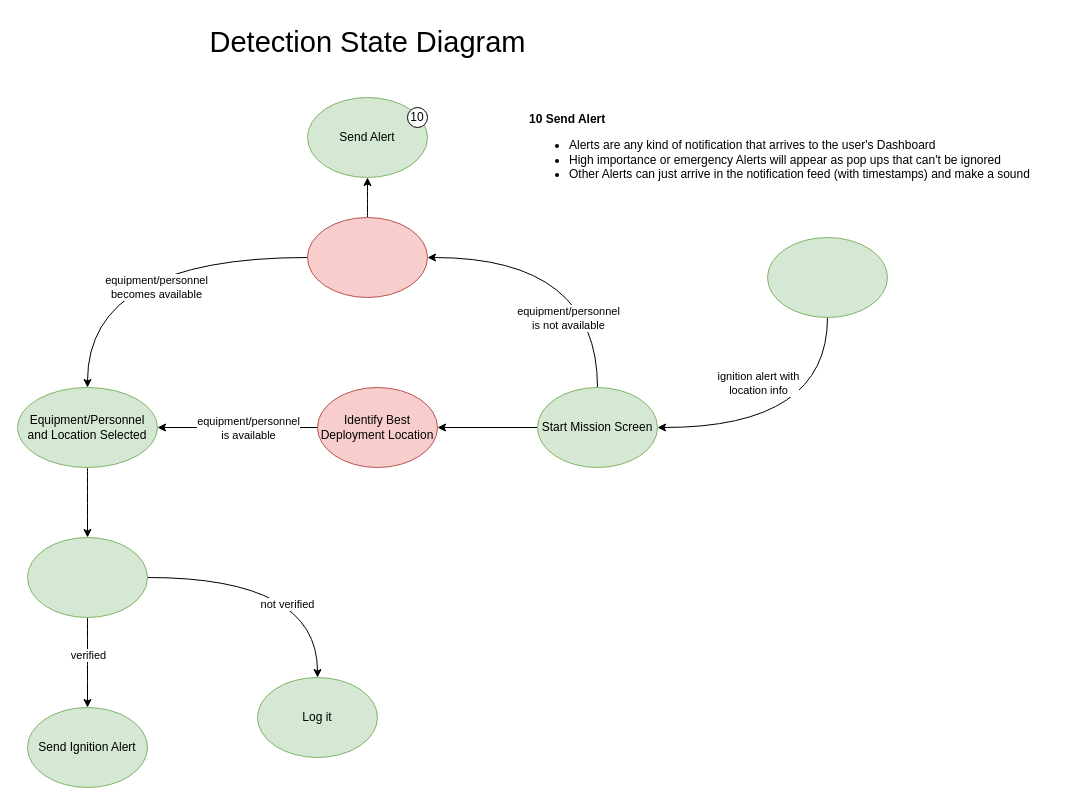
Image size: 1075x805. Some labels were removed from this diagram. Here are the shapes that lost their labels. From the top down, the centre of each, then its label:
[367,257]: Cancel Scheduled Mission
[827,277]: Ignition Reporting
[87,577]: Verify Ignition Mission in Progress
